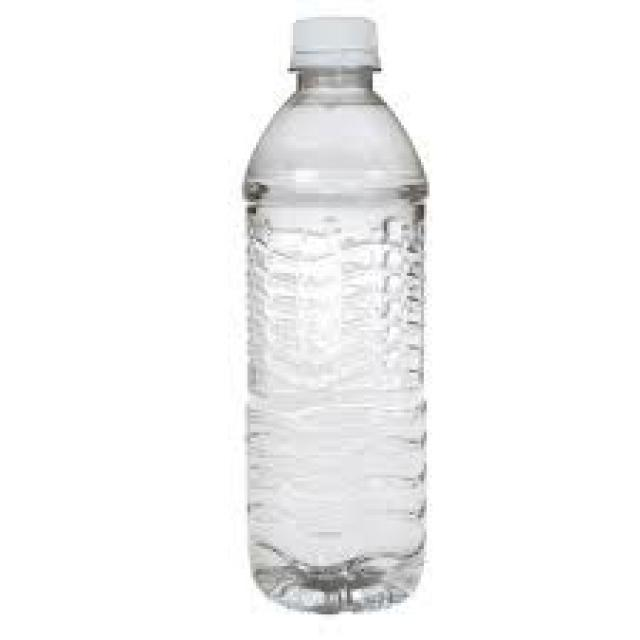Plastic: (235, 18, 450, 613)
